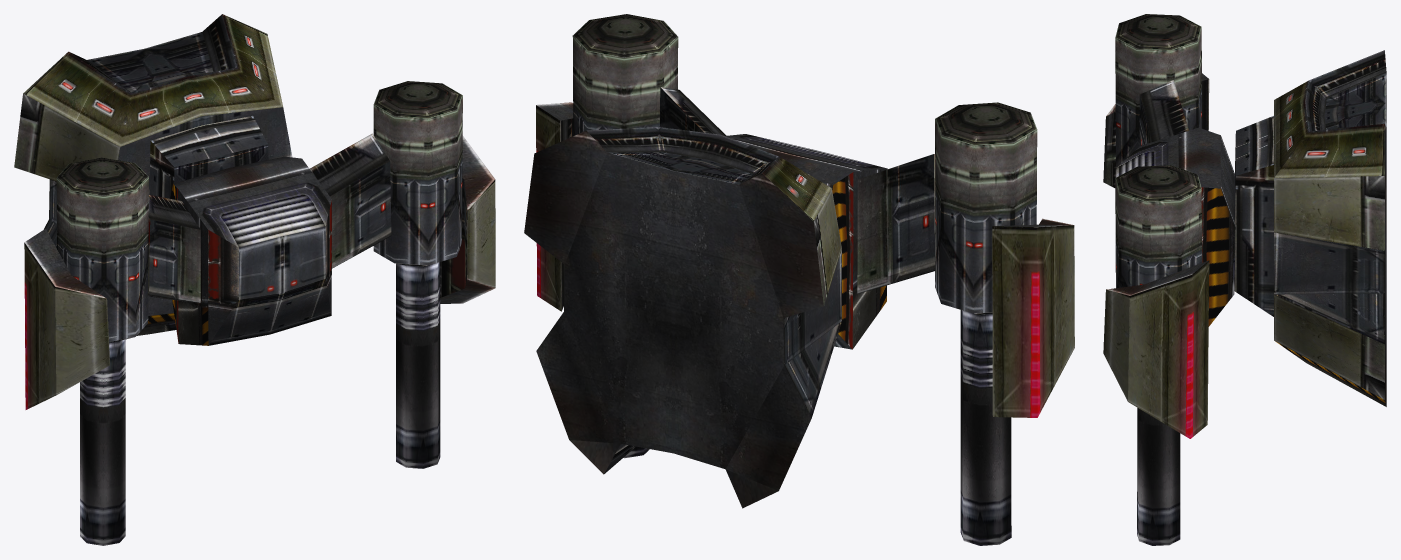
The model's file is turret-07.obj.
The picture shows the model from 3 angles, left to right: view 1: azimuth 30°, elevation 25°; view 2: azimuth 150°, elevation 25°; view 3: azimuth 270°, elevation 25°; orthographic projection. The views are drawn at different scales.
Parts seen in each view (by area): view 1: turret_07; view 2: turret_07; view 3: turret_07.
Boxes of the visible parts, bbox=[...] form: turret_07: bbox=[14, 14, 495, 545]; turret_07: bbox=[524, 14, 1074, 545]; turret_07: bbox=[1103, 14, 1386, 545].
Size of the model in its own units: 5.75 by 4.76 by 3.26.
1 material, 1 textured.
